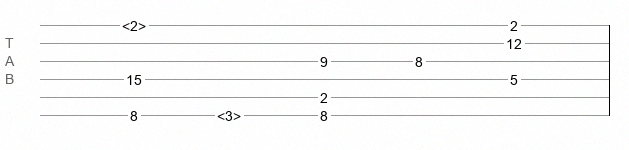12: (506, 36, 522, 46)
15: (126, 72, 142, 82)
2: (320, 90, 328, 100), (510, 18, 518, 28)
5: (510, 72, 518, 82)
8: (130, 108, 138, 118), (320, 108, 328, 118), (415, 54, 423, 64)
9: (320, 54, 328, 64)
harmonic: (122, 18, 146, 28), (217, 108, 241, 118)
